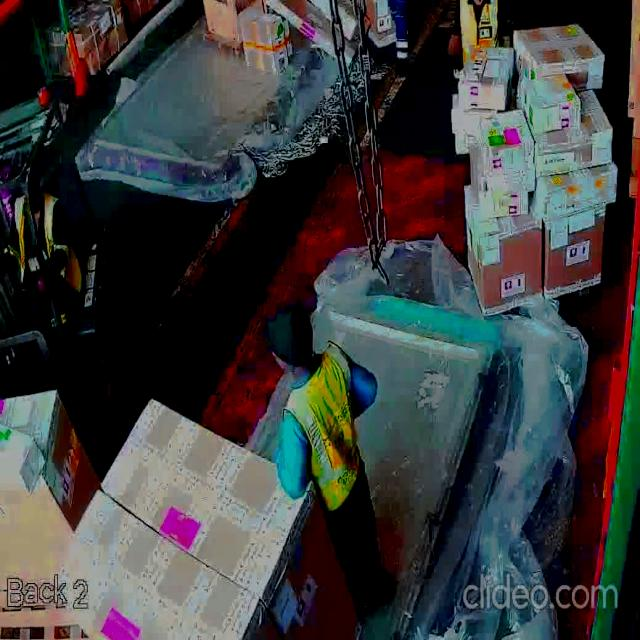Box: (112, 408, 340, 566), (70, 524, 240, 640), (464, 217, 544, 300), (515, 26, 603, 80), (544, 216, 604, 295), (477, 114, 535, 172), (457, 40, 507, 106), (546, 135, 616, 171), (240, 9, 286, 63), (546, 175, 618, 208), (528, 76, 574, 122)
